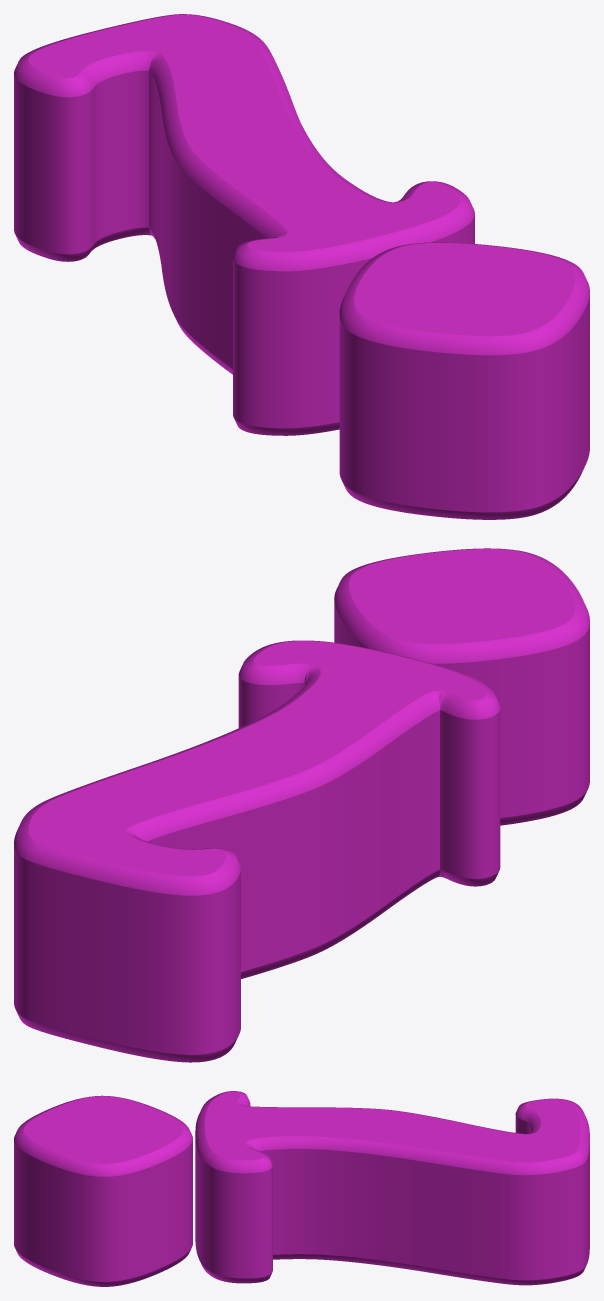
The model's file is Letter_i_Small.fbx.
The picture shows the model from 3 angles, top to bottom: view 1: azimuth 30°, elevation 25°; view 2: azimuth 150°, elevation 25°; view 3: azimuth 270°, elevation 25°; orthographic projection. The views are drawn at different scales.
Parts seen in each view (by area): view 1: Letter_i; view 2: Letter_i; view 3: Letter_i.
Boxes of the visible parts, x1,y1,x2,y2 form: Letter_i: [14, 14, 589, 519]; Letter_i: [14, 548, 589, 1062]; Letter_i: [14, 1091, 589, 1286].
Size of the model in its own units: 0.1979 by 0.14 by 0.5959.
